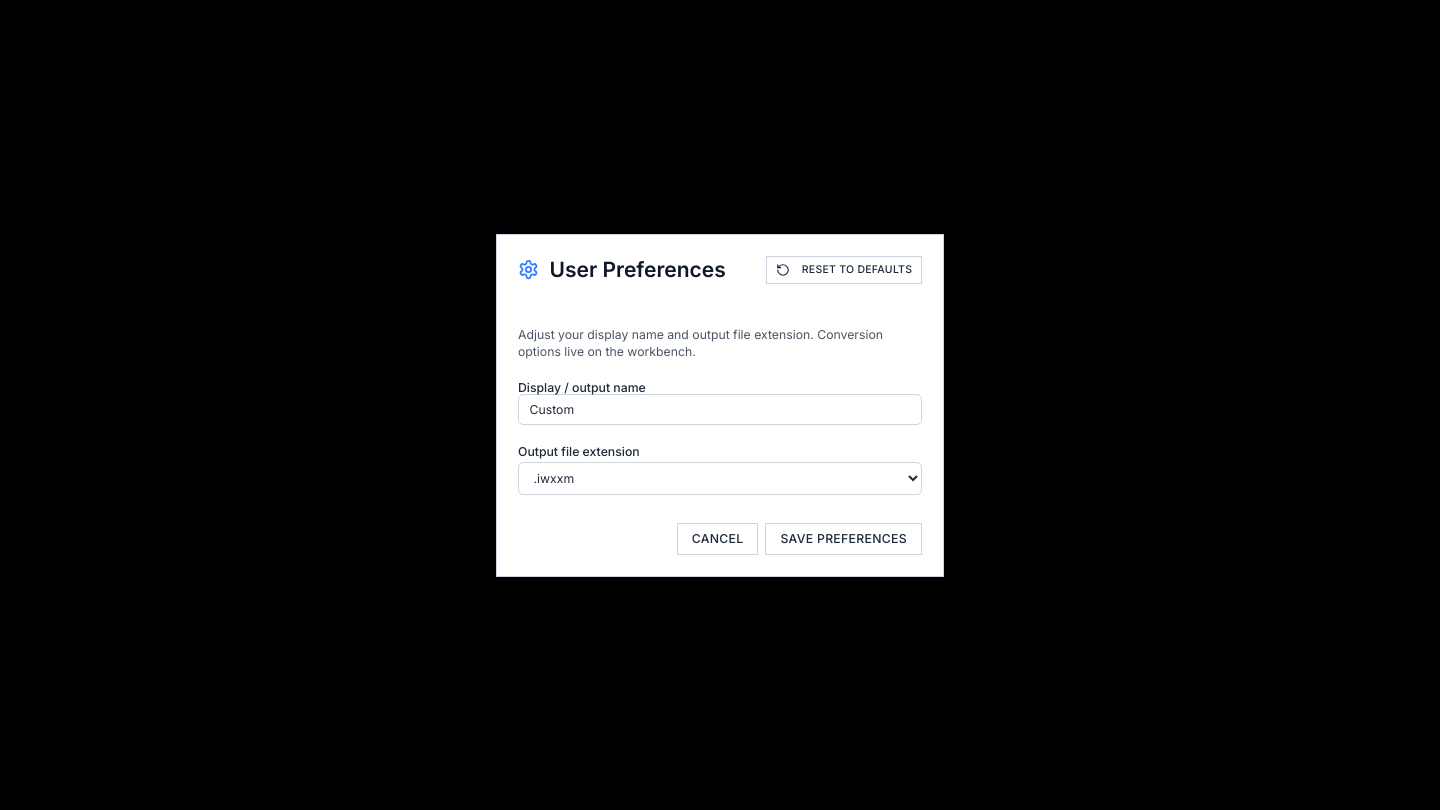
Test: UserPreferencesDialog (EV-040 slim) › resets preferences after confirmation
Check: the field showing "Custom" is shown, box [518,394,922,425]
Click the button with aria-label "reset preferences to defaults" at (844, 270), box [766,256,922,284]
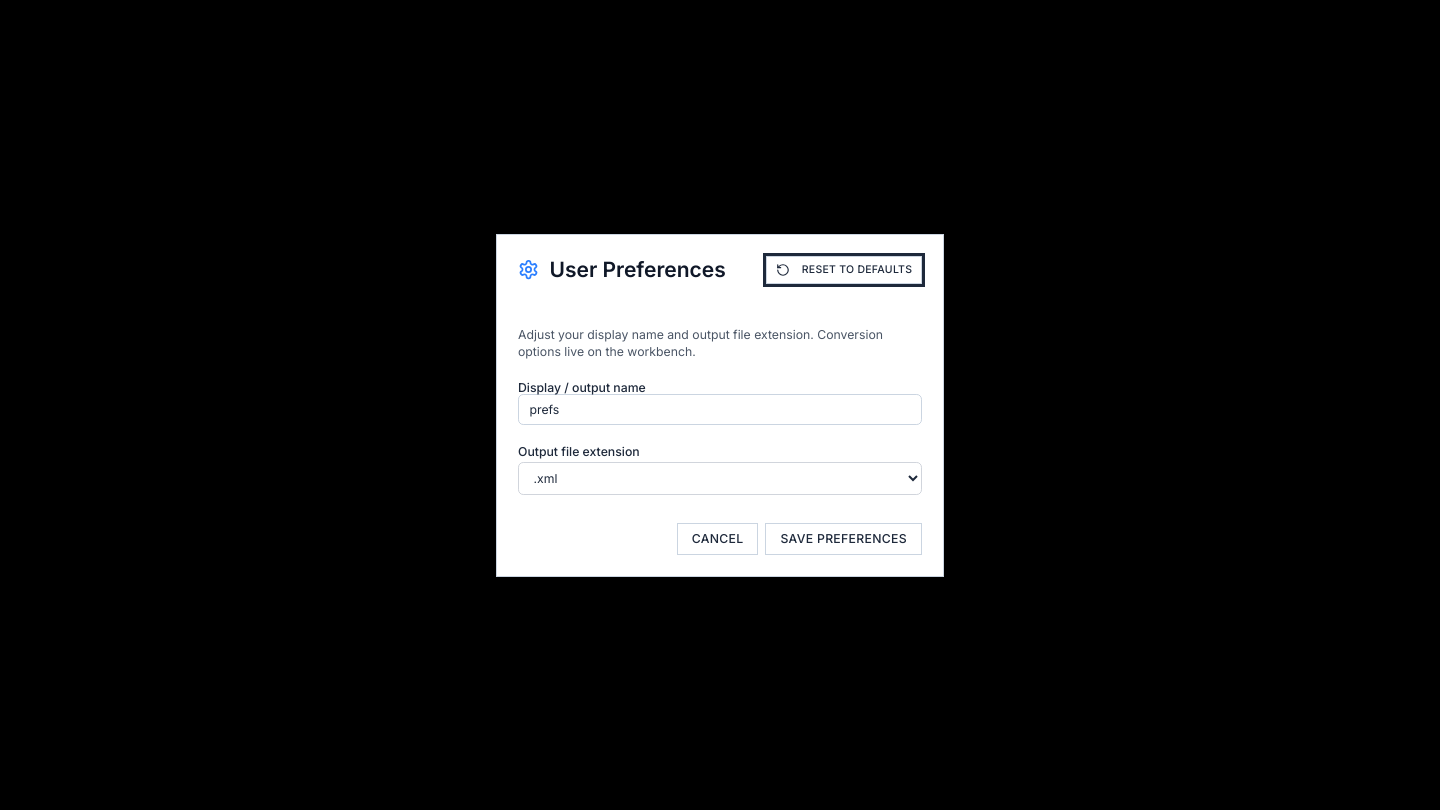
Check: the field showing "prefs" is shown, box [518,394,922,425]
Check: the dropdown labelled "Output file extension" shows ".xml", box [518,462,922,495]
